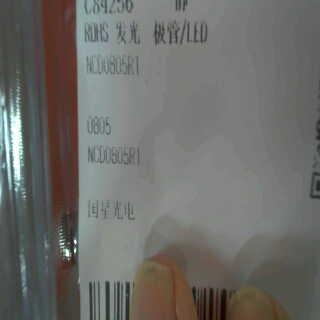LED: (114, 18, 210, 49)
